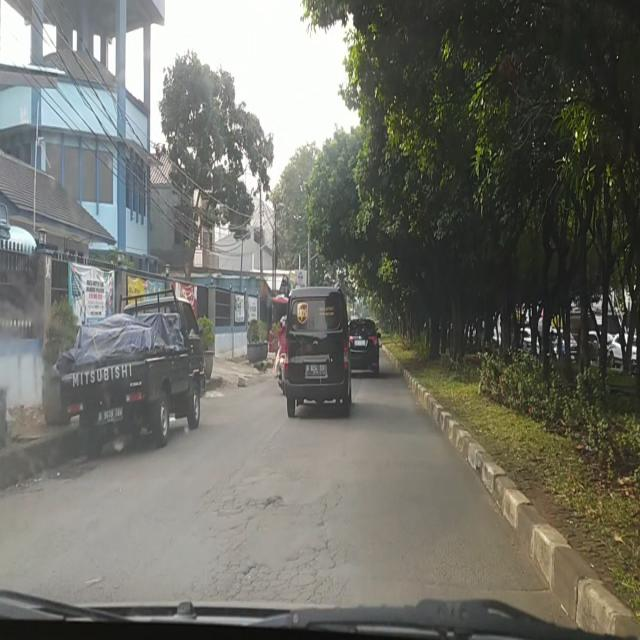Drain Hole: (206, 495, 342, 600)
